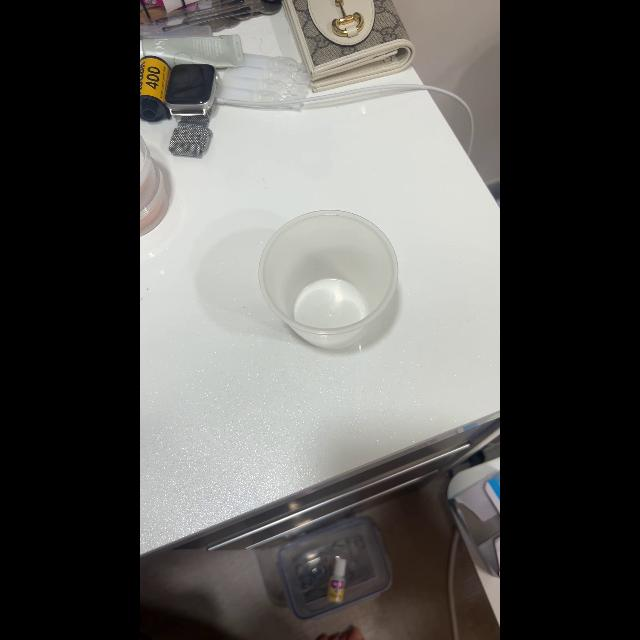clean: (257, 208, 401, 348)
